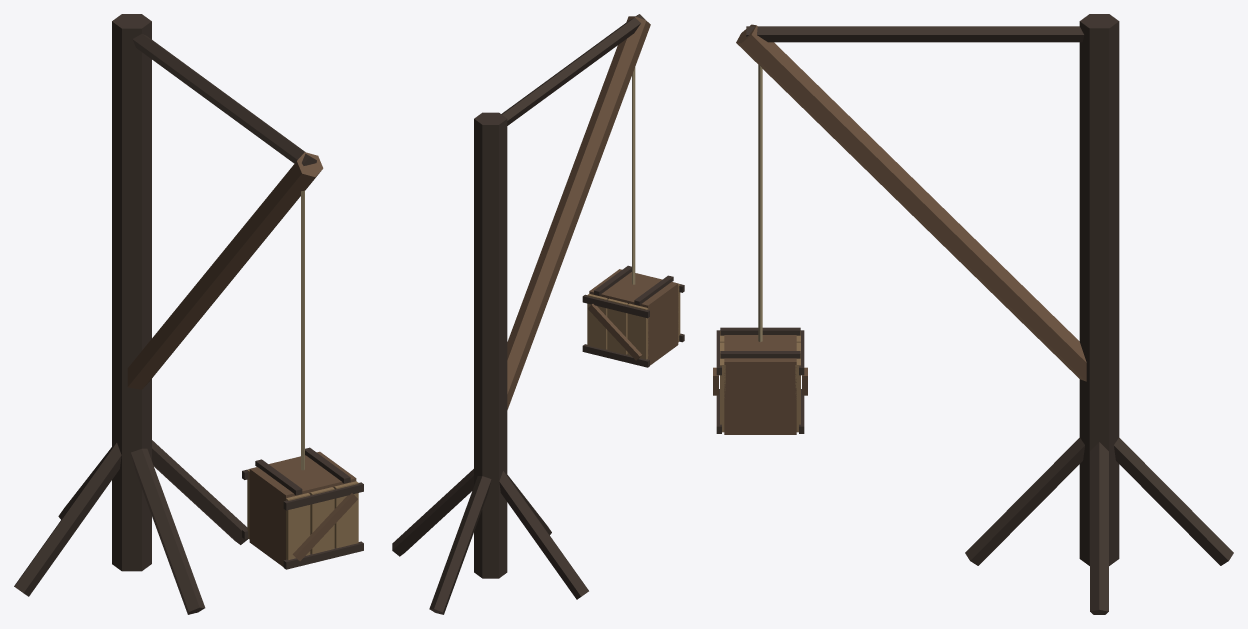
File: jib_crane.glb
3 views of the same model, side by side, from view 1: azimuth 30°, elevation 25°; view 2: azimuth 150°, elevation 25°; view 3: azimuth 270°, elevation 25° (orthographic). The views are drawn at different scales.
Parts seen in each view (by area): view 1: crane post, crane jib, hoisted cargo/cargo core, jib tie, post strut.003, post strut.002, post strut, hoisted cargo/face plank, hoist rope, hoisted cargo/face plank.002, hoisted cargo/face plank.001, hoisted cargo/diagonal brace (+4 smaller); view 2: crane post, crane jib, hoisted cargo/cargo core, post strut.001, jib tie, post strut.002, post strut, hoist rope, hoisted cargo/face plank.003, hoisted cargo/face plank.005, hoisted cargo/face plank.004, hoisted cargo/diagonal brace.001 (+2 smaller); view 3: crane post, crane jib, hoisted cargo/cargo core, jib tie, post strut, post strut.001, post strut.003, hoist rope.
Boxes of the visible parts, box(x1,y1,x2,y2) form: crane post: box(112, 14, 151, 571); crane jib: box(127, 152, 323, 389); hoisted cargo/cargo core: box(249, 451, 356, 566); jib tie: box(132, 34, 316, 165); post strut.003: box(131, 448, 205, 614); post strut.002: box(14, 442, 121, 596); post strut: box(152, 440, 248, 544); hoisted cargo/face plank: box(286, 493, 310, 560); hoist rope: box(301, 190, 304, 470); hoisted cargo/face plank.002: box(334, 481, 358, 548); hoisted cargo/face plank.001: box(310, 487, 334, 554); hoisted cargo/diagonal brace: box(292, 493, 357, 561); crane post: box(474, 112, 507, 578); crane jib: box(507, 16, 650, 409); hoisted cargo/cargo core: box(589, 269, 678, 365); post strut.001: box(429, 476, 491, 614); jib tie: box(501, 14, 645, 125); post strut.002: box(499, 471, 588, 599); post strut: box(392, 469, 473, 556); hoist rope: box(632, 67, 635, 284); hoisted cargo/face plank.003: box(627, 303, 648, 359); hoisted cargo/face plank.005: box(587, 293, 607, 349); hoisted cargo/face plank.004: box(607, 298, 627, 354); hoisted cargo/diagonal brace.001: box(588, 304, 641, 360); crane post: box(1079, 14, 1119, 565); crane jib: box(736, 24, 1086, 381); hoisted cargo/cargo core: box(724, 335, 796, 434); jib tie: box(746, 26, 1084, 42); post strut: box(1090, 442, 1108, 614); post strut.001: box(1114, 437, 1233, 565); post strut.003: box(965, 437, 1084, 565); hoist rope: box(758, 65, 762, 341).
Size of the model in its own units: 0.952 by 2.12 by 1.84.
